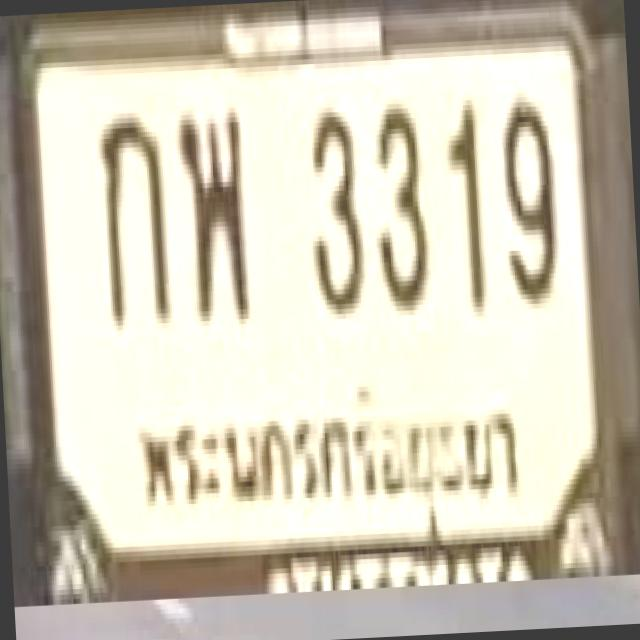license_plate: (11, 0, 623, 595)
